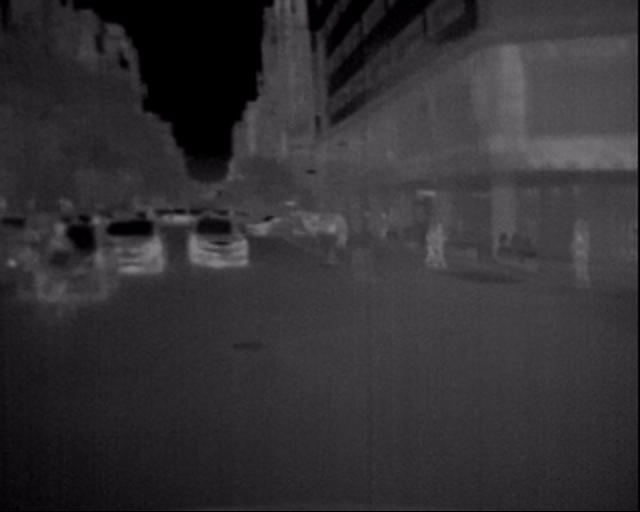person: (14, 215, 86, 340), (565, 215, 596, 291), (421, 211, 455, 275), (414, 218, 448, 276)
